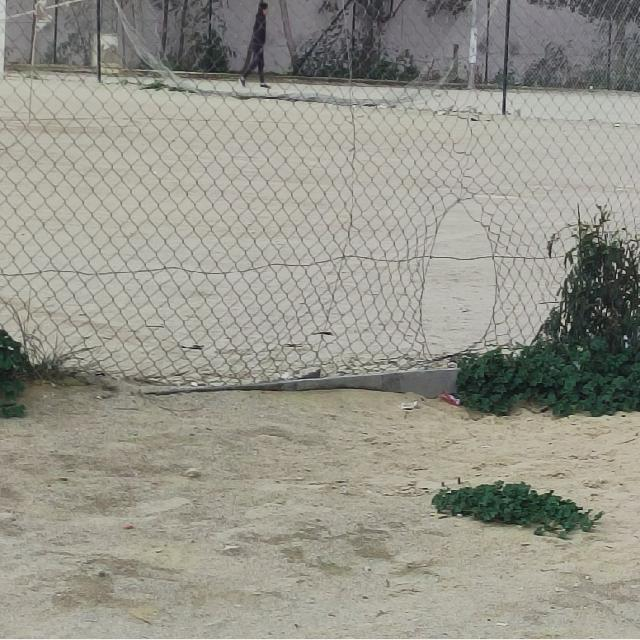fence line: (419, 202, 511, 373)
